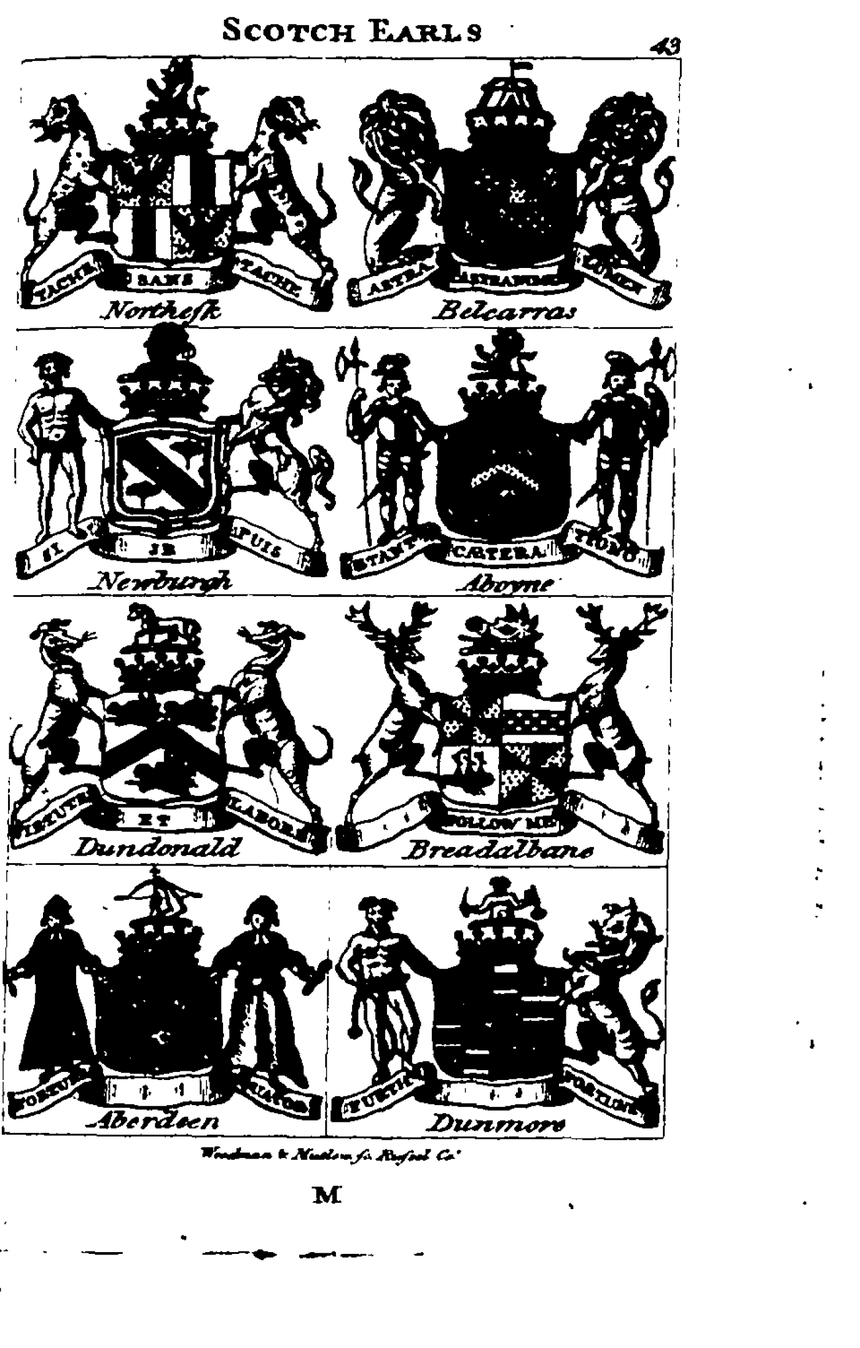coat_of_arms: (342, 599, 670, 868), (345, 53, 666, 327), (334, 865, 659, 1133), (24, 63, 343, 331), (24, 329, 345, 594), (347, 327, 670, 589), (14, 596, 324, 865), (20, 870, 322, 1137)
